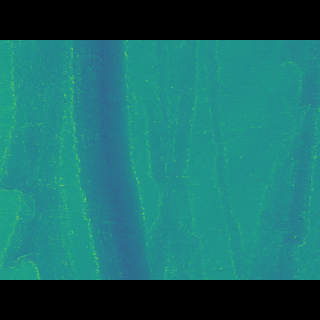Loch: (67, 69, 196, 250), (0, 70, 76, 249), (254, 82, 320, 249), (204, 71, 249, 248)
